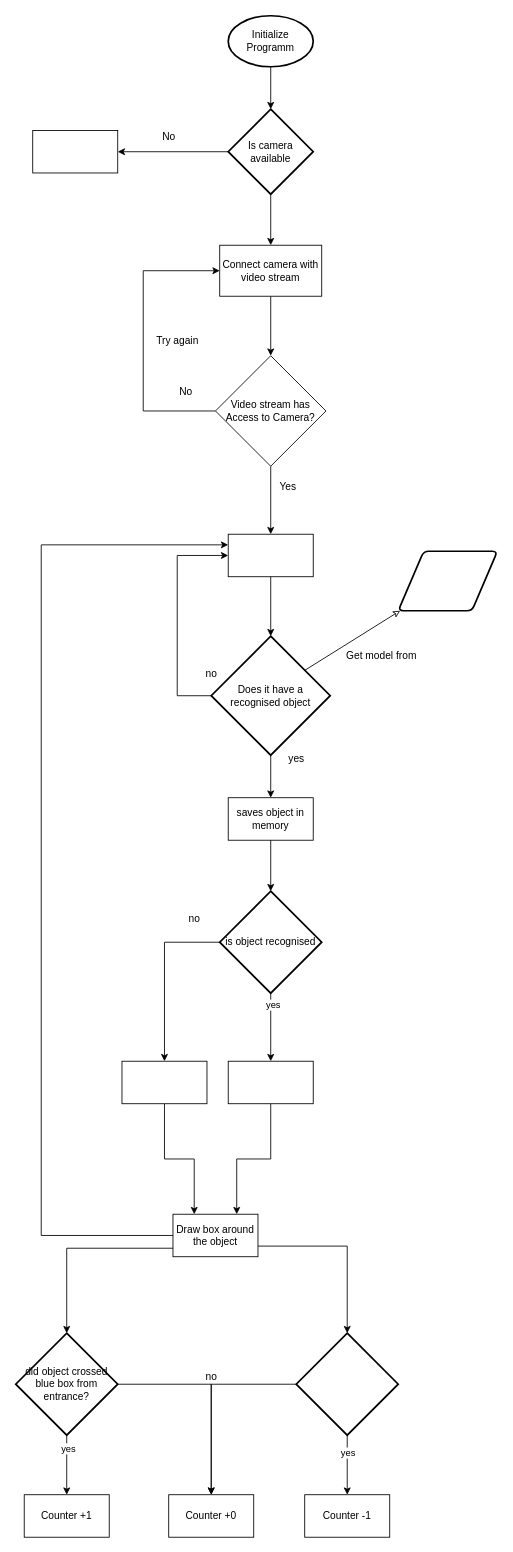
Image size: 513x1552. Some labels were removed from this diagram. The shapes that lost their labels are listed below. From the top down, each one's box as (x1, y1, x2, y2) in pixels, then its label:
(32, 130, 118, 173): Throw Error
(227, 533, 313, 577): read camera frame
(397, 550, 498, 611): YOLO model
(121, 1060, 207, 1104): create new ID on the fly
(227, 1060, 313, 1104): Get Data from saved object
(295, 1332, 399, 1436): did object crossed blue box from exit?
